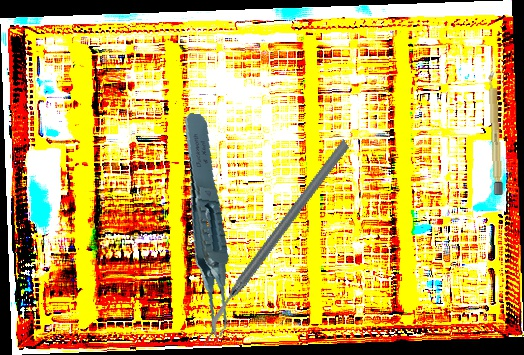Chopper: (160, 137, 400, 340)
Scalpel Handle: (487, 68, 504, 197)
Tissue Forceps: (152, 112, 255, 349)
